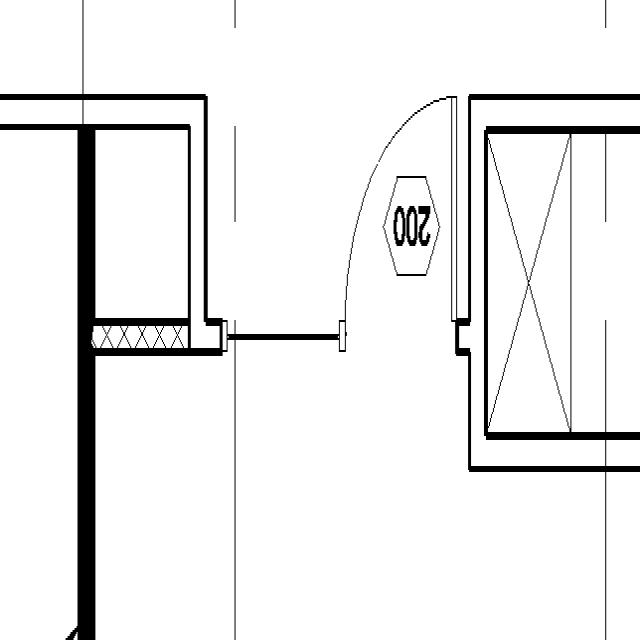Doors: (336, 87, 462, 337)
